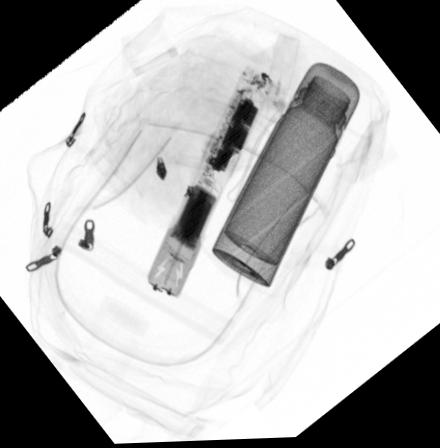Baton: (142, 63, 274, 303)
